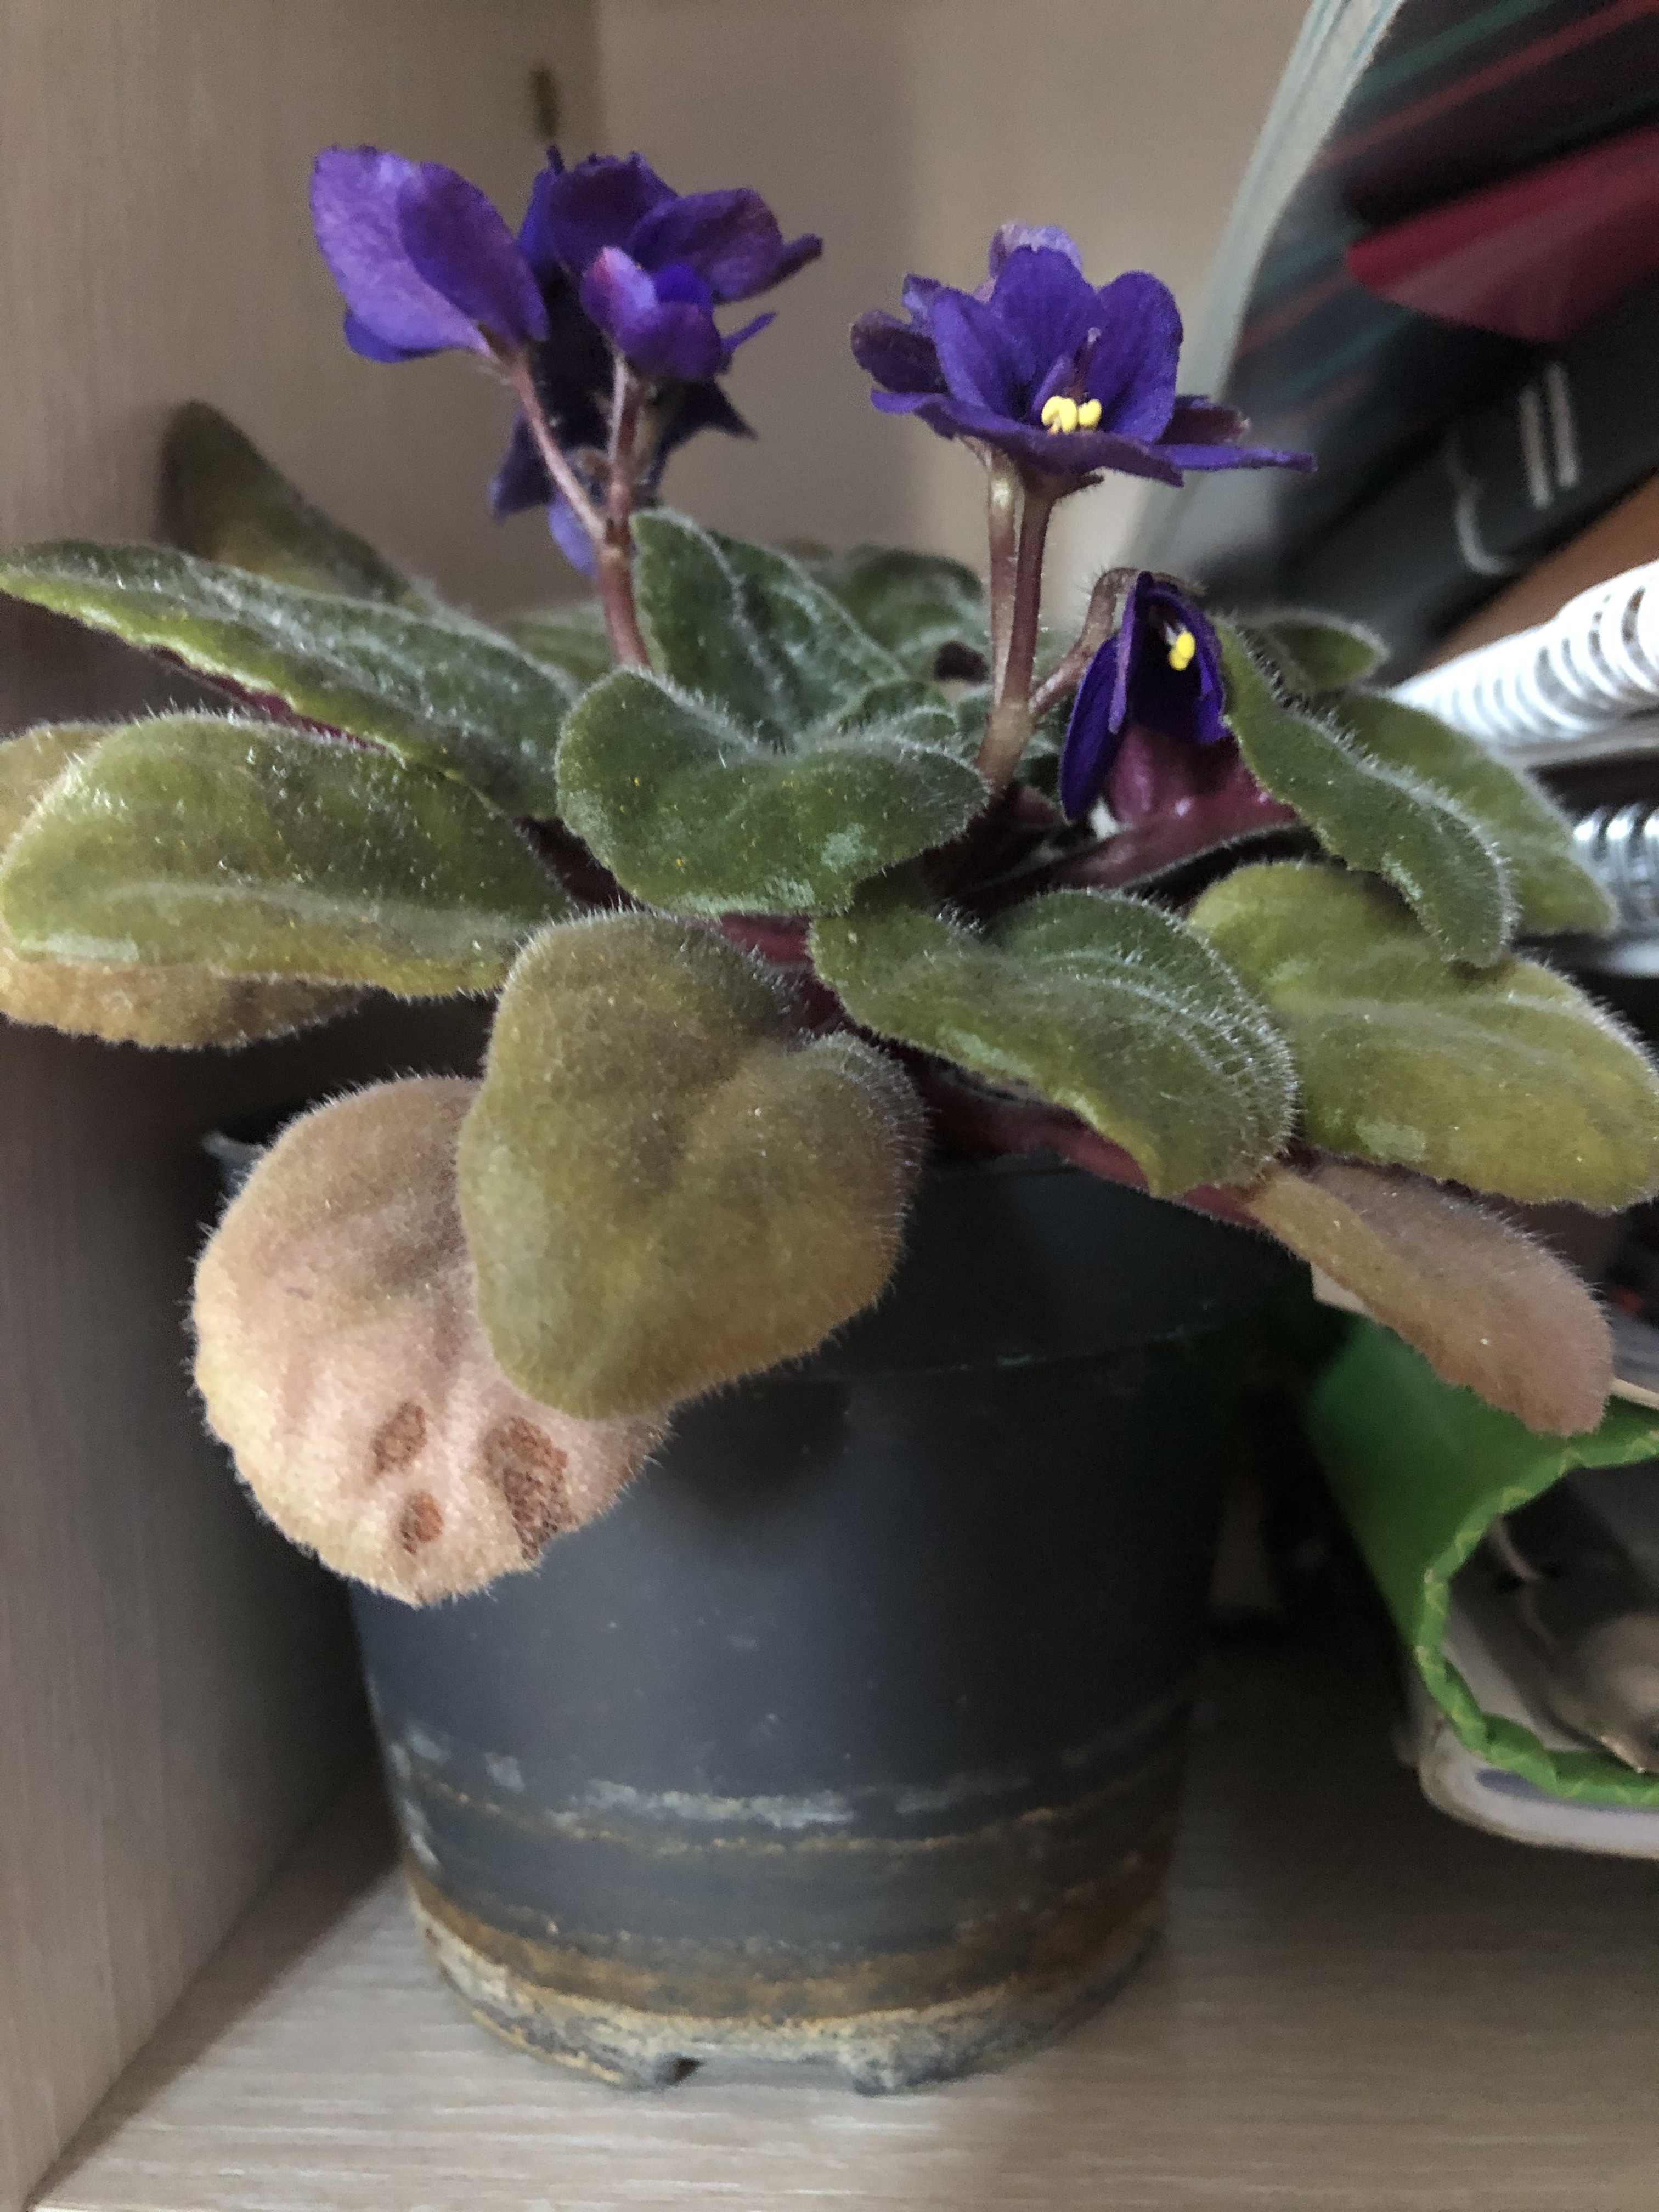ignore: (5, 99, 1657, 1623)
